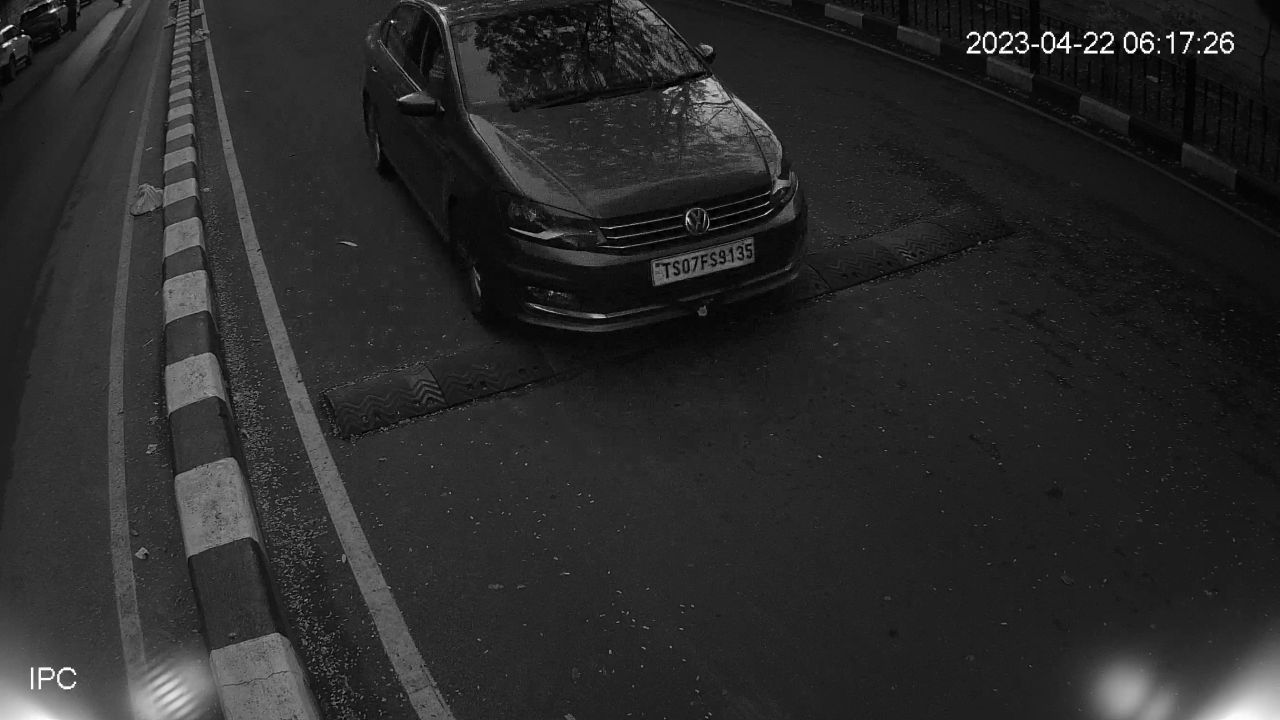license_plate: (642, 226, 766, 294)
